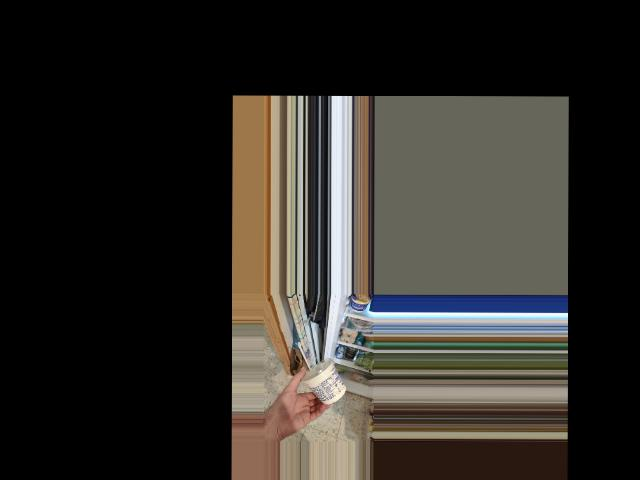cotage: (301, 356, 340, 406)
